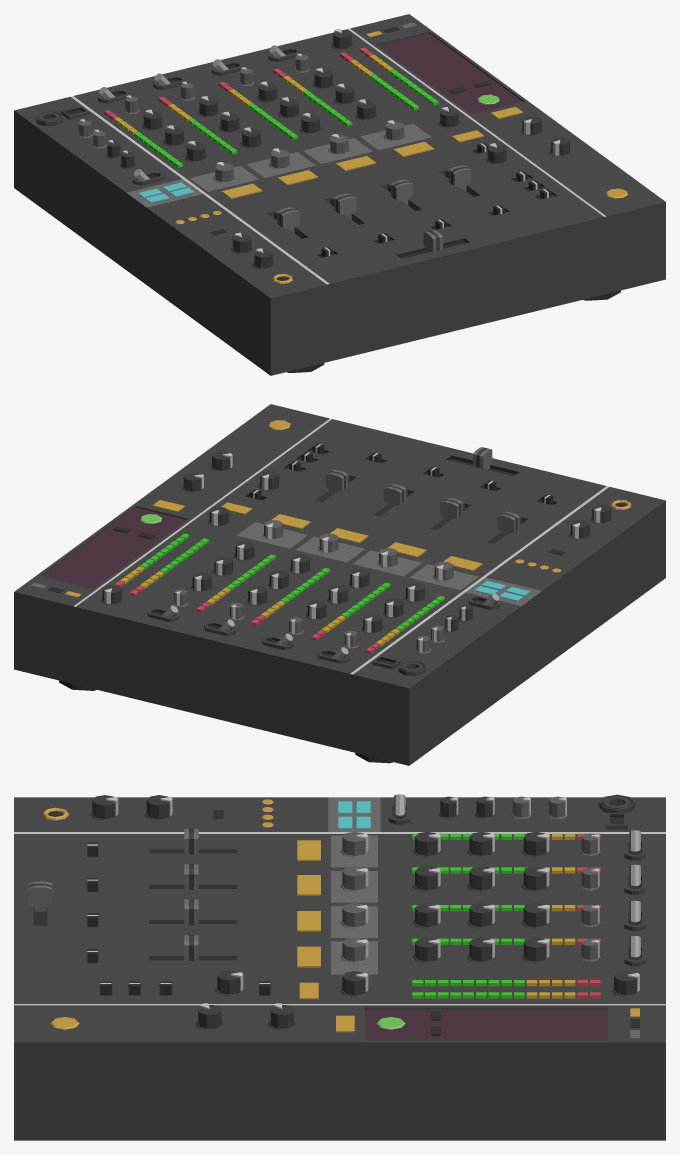
File: Mixer.fbx
3 views of the same model, one above another, from view 1: azimuth 30°, elevation 25°; view 2: azimuth 150°, elevation 25°; view 3: azimuth 270°, elevation 25° (orthographic). The views are drawn at different scales.
Visible parts, largest first — view 1: Mixer; view 2: Mixer; view 3: Mixer, Crossfade, 4C Effect, 4C High, 2C High, Heaphones Dial 1, 2C Effect, 1C Effect, Booth Monitor Dial, 3C High, Balance Dial, 3C Effect (+13 smaller).
Part boxes in pixels (<box>): Mixer: <box>14,14,665,375</box>; Mixer: <box>14,404,665,765</box>; Mixer: <box>14,794,665,1140</box>; Crossfade: <box>28,881,52,911</box>; 4C Effect: <box>340,937,369,963</box>; 4C High: <box>521,937,550,963</box>; 2C High: <box>521,866,550,892</box>; Heaphones Dial 1: <box>144,795,173,821</box>; 2C Effect: <box>340,866,369,892</box>; 1C Effect: <box>340,831,369,857</box>; Booth Monitor Dial: <box>215,970,244,996</box>; 3C High: <box>521,903,550,929</box>; Balance Dial: <box>340,971,369,997</box>; 3C Effect: <box>340,903,369,929</box>.
Size of the model in its own units: 320 by 82 by 360.
